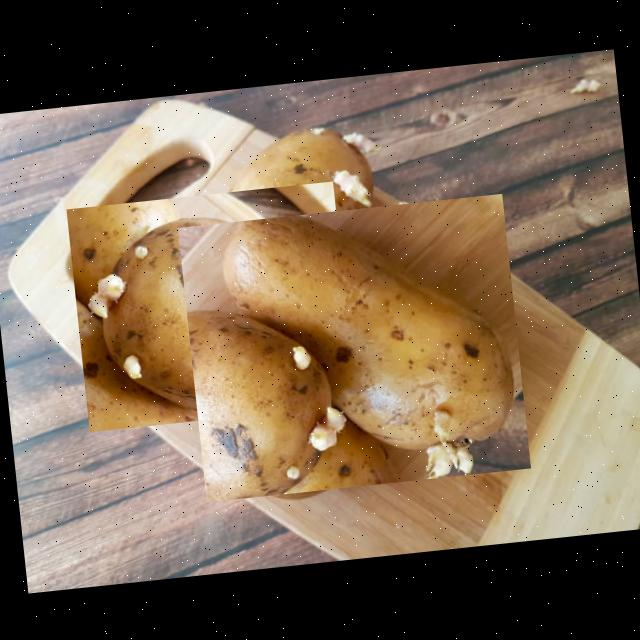Sprouted potato: (176, 192, 530, 501), (65, 180, 355, 432), (210, 109, 394, 287)
